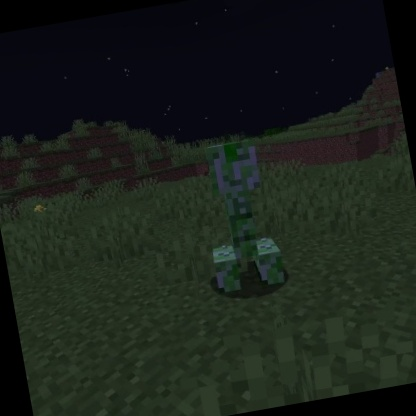creeper: (187, 132, 293, 300)
